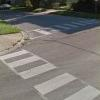Crosswalk: (2, 44, 98, 100)
